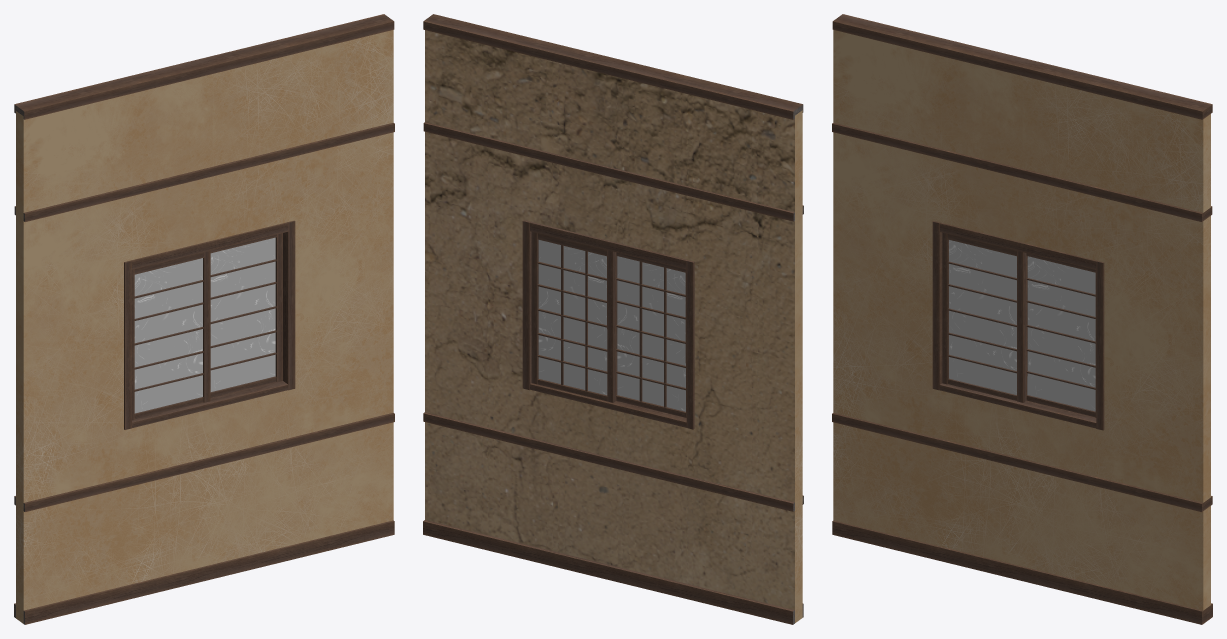
Rendered from intwall02_1t_w1.fbx.
The picture shows the model from 3 angles, left to right: view 1: azimuth 30°, elevation 25°; view 2: azimuth 150°, elevation 25°; view 3: azimuth 330°, elevation 25°; orthographic projection.
Parts seen in each view (by area): view 1: intwall02_1t_w1; view 2: intwall02_1t_w1; view 3: intwall02_1t_w1.
Part boxes in pixels (x1,y1,x2,y2): intwall02_1t_w1: (14, 14, 394, 624); intwall02_1t_w1: (423, 14, 803, 624); intwall02_1t_w1: (832, 14, 1212, 624).
Size of the model in its own units: 220 by 292 by 11.34.
